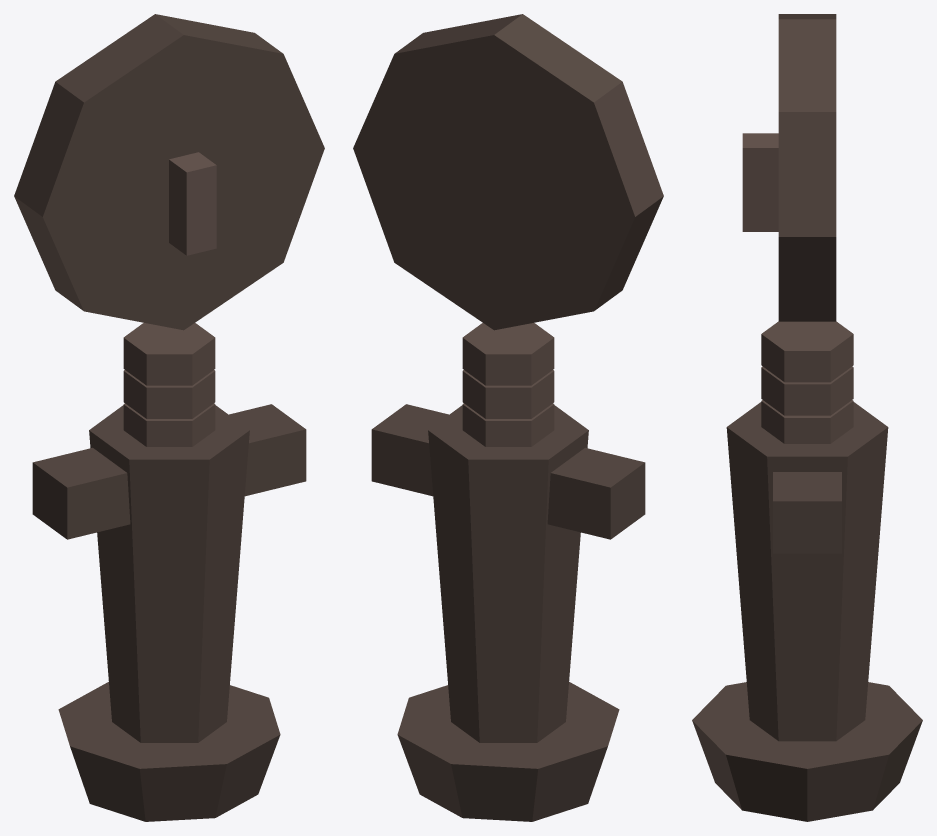
The model's file is sculpture-40.glb.
3 views of the same model, side by side, from view 1: azimuth 30°, elevation 25°; view 2: azimuth 150°, elevation 25°; view 3: azimuth 270°, elevation 25° (orthographic).
Parts seen in each view (by area): view 1: sculpture_40; view 2: sculpture_40; view 3: sculpture_40.
Part boxes in pixels (<box>): sculpture_40: <box>14,14,324,821</box>; sculpture_40: <box>353,14,663,821</box>; sculpture_40: <box>692,14,922,821</box>.
Size of the model in its own units: 0.1504 by 0.3871 by 0.1061.
